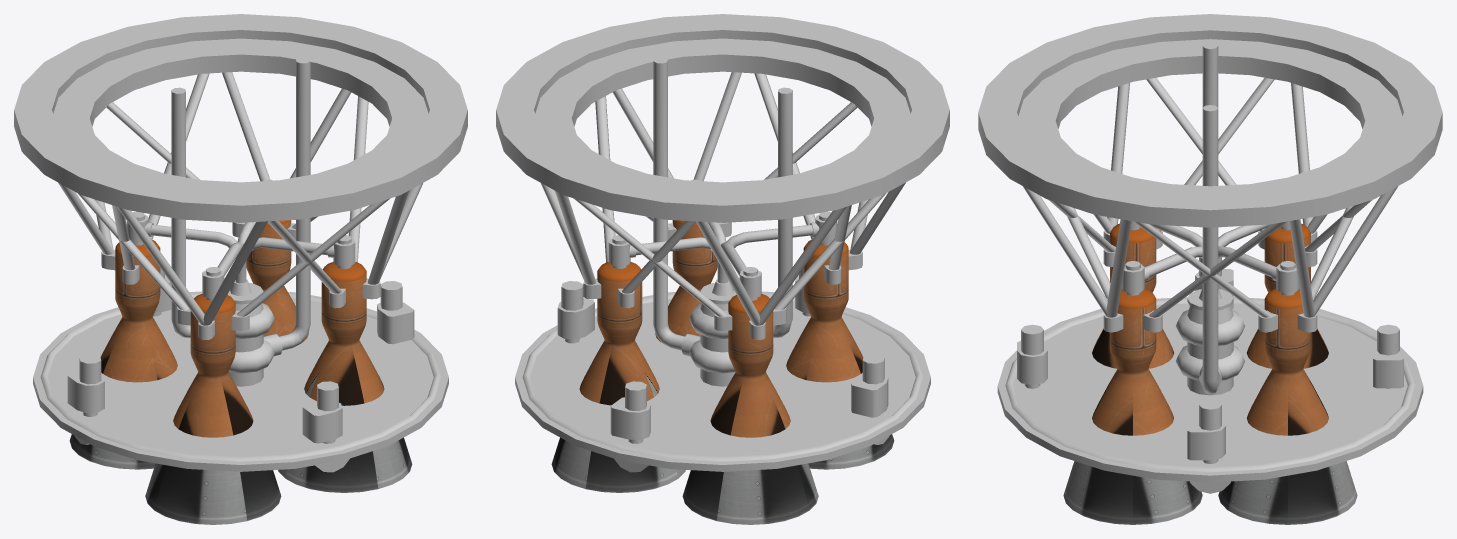
Rendered from tantares_lv_engine_s1p2_3.obj.
3 views of the same model, side by side, from view 1: azimuth 30°, elevation 25°; view 2: azimuth 150°, elevation 25°; view 3: azimuth 270°, elevation 25° (orthographic). The views are drawn at different scales.
Visible parts, largest first — view 1: tantares_lv_engine_s1p2_3, tantares_lv_engine_s1p2_3_nozzles; view 2: tantares_lv_engine_s1p2_3, tantares_lv_engine_s1p2_3_nozzles; view 3: tantares_lv_engine_s1p2_3, tantares_lv_engine_s1p2_3_nozzles.
Part boxes in pixels (x1,y1,x2,y2): tantares_lv_engine_s1p2_3: (14, 14, 467, 472); tantares_lv_engine_s1p2_3_nozzles: (69, 220, 412, 524); tantares_lv_engine_s1p2_3: (496, 14, 949, 472); tantares_lv_engine_s1p2_3_nozzles: (551, 220, 894, 524); tantares_lv_engine_s1p2_3: (978, 14, 1442, 493); tantares_lv_engine_s1p2_3_nozzles: (1063, 223, 1357, 524).
Size of the model in its own units: 1.5 by 1.38 by 1.5.
